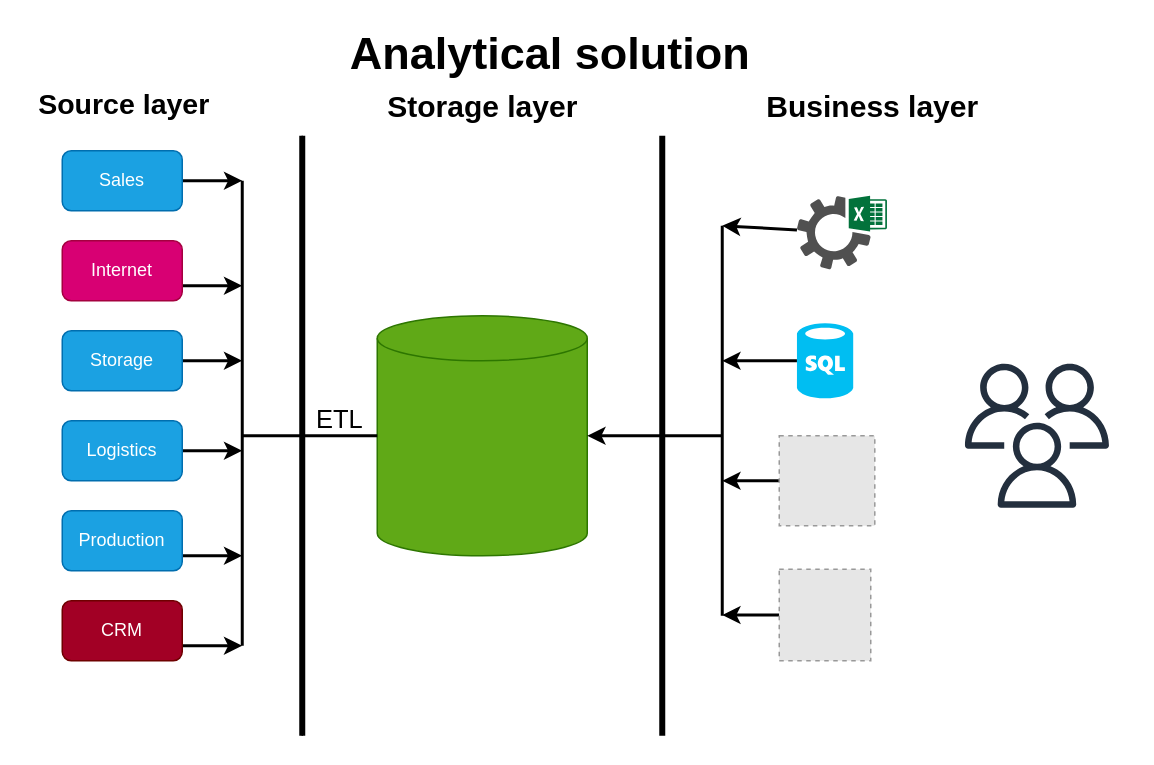
Image size: 1154x765. Some labels were removed from this diagram. Grey dashed boxes stand in for pictures. The centre of each missing label's shape, as x and y in pixels:
DWH: (x=481, y=435)
Users: (x=1036, y=435)
